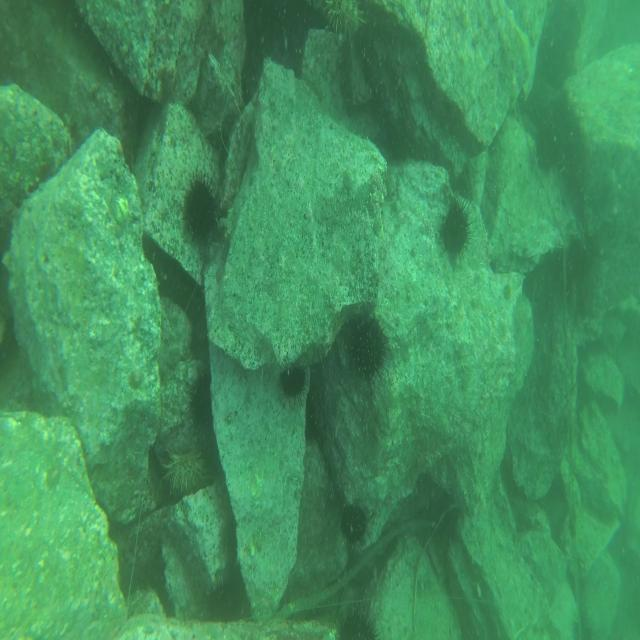echinus: (187, 164, 221, 243), (443, 191, 474, 263), (162, 451, 212, 493), (350, 320, 384, 380), (322, 0, 365, 40), (535, 124, 561, 178), (336, 610, 380, 640), (340, 507, 370, 545), (188, 372, 210, 419), (276, 364, 308, 396)
